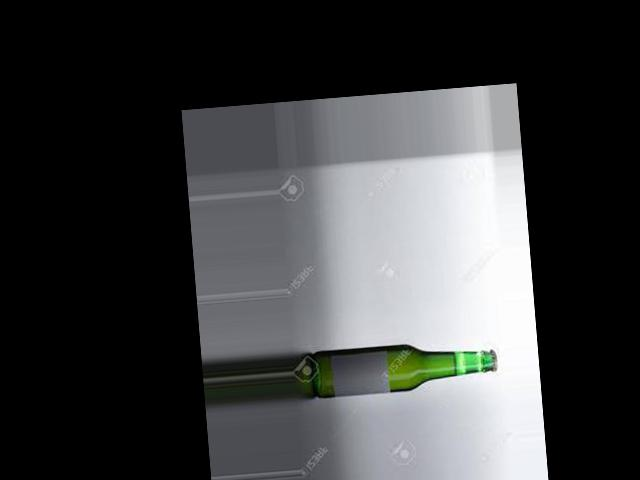beer: (310, 336, 498, 399)
